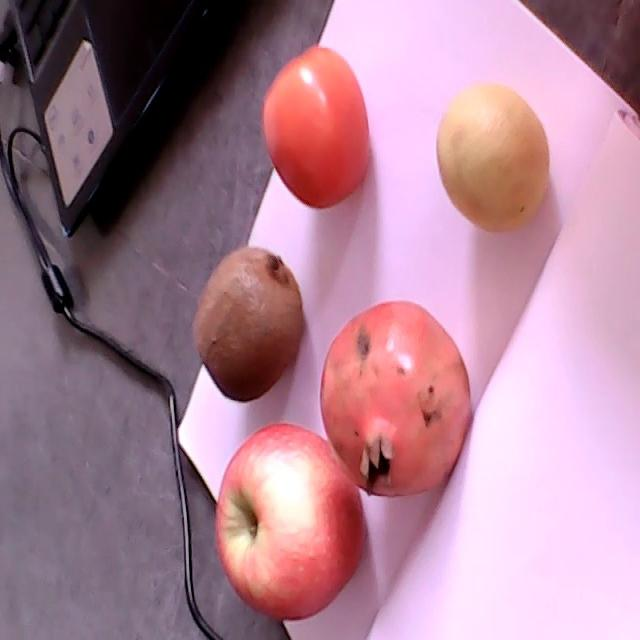apple: (216, 424, 365, 619)
kiwi: (192, 247, 303, 399)
lemon: (437, 86, 549, 231)
pomegranate: (321, 301, 469, 496)
tomato: (262, 45, 370, 208)
